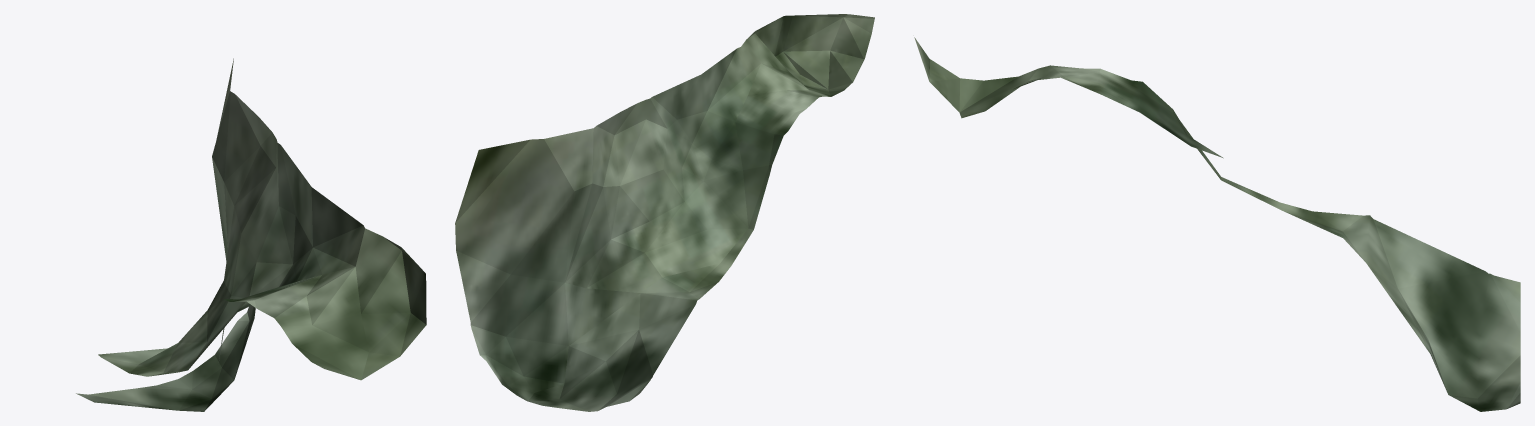
3 renders of one model, left to right at view 1: azimuth 30°, elevation 25°; view 2: azimuth 150°, elevation 25°; view 3: azimuth 270°, elevation 25°, orthographic. The views are drawn at different scales.
Bounding box in the file's own units: 0.8341 × 1.06 × 1.84.
1 material, 1 textured.
